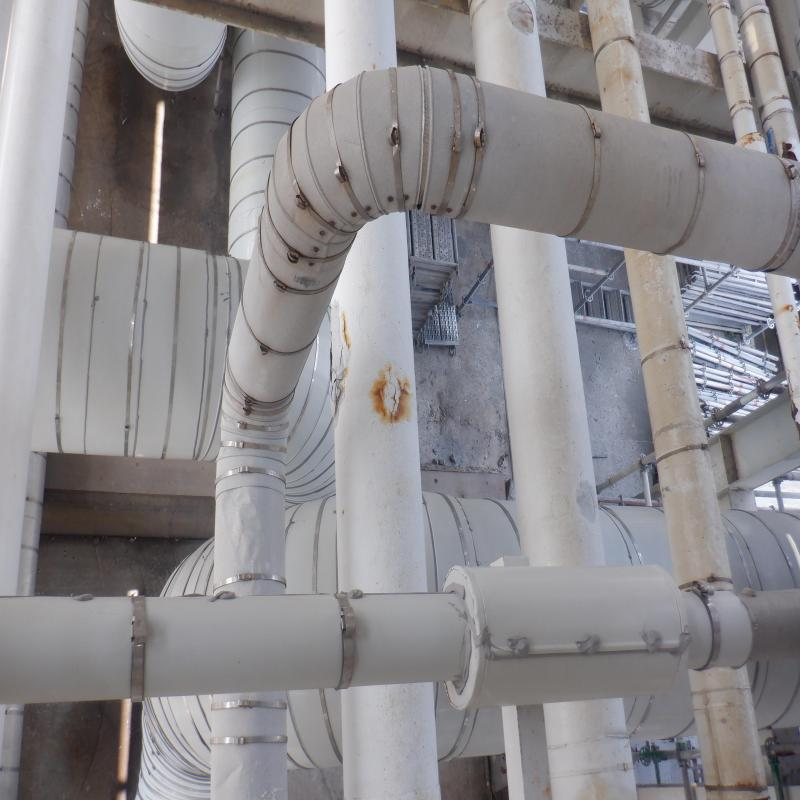corrosion: (374, 374, 414, 421)
